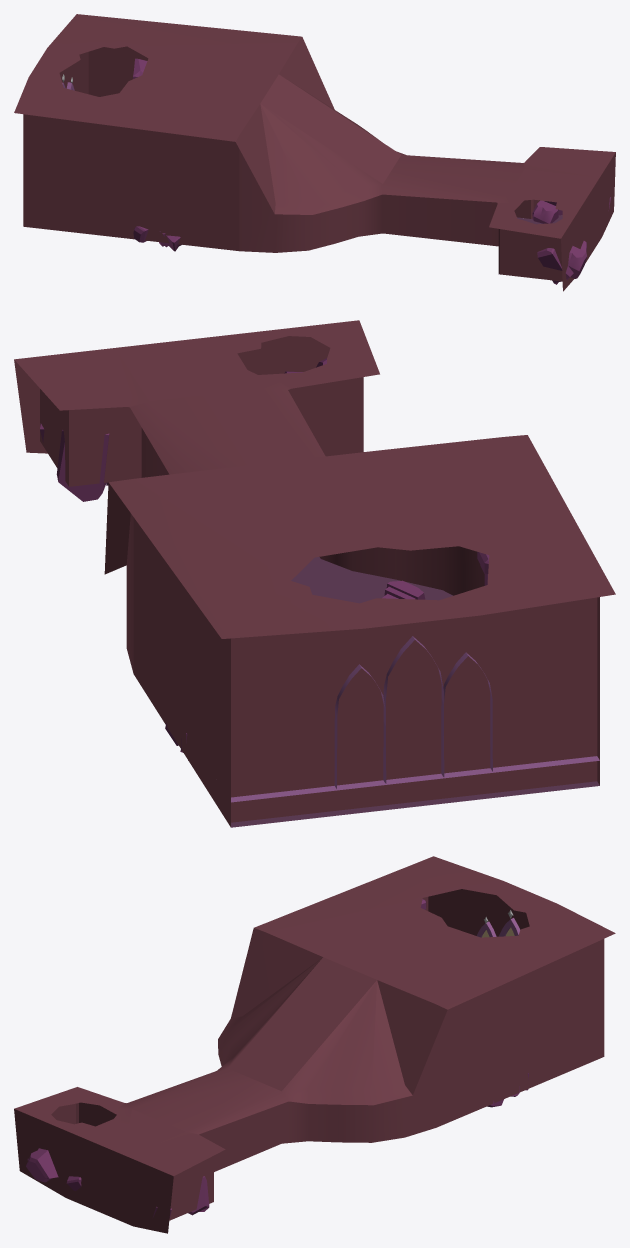
The model's file is env_hub_ruins.fbx.
3 views of the same model, one above another, from view 1: azimuth 30°, elevation 25°; view 2: azimuth 150°, elevation 25°; view 3: azimuth 270°, elevation 25° (orthographic). The views are drawn at different scales.
Visible parts, largest first — view 1: SHADOWCASTER_ceiling, wall_mainRoom, wall_hallway, SHADOWCASTER_walls, wall_knights, debris_11, debris_3, debris_13; view 2: SHADOWCASTER_ceiling, wall_knights, SHADOWCASTER_walls, wall_hallway, wall_mainRoom, floor, platform, portal_frame, debris_10; view 3: SHADOWCASTER_ceiling, wall_mainRoom, wall_hallway, SHADOWCASTER_walls, wall_knights, debris_13.
Boxes of the visible parts, x1,y1,x2,y2 form: SHADOWCASTER_ceiling: [14, 14, 615, 291]; wall_mainRoom: [23, 46, 239, 250]; wall_hallway: [239, 149, 562, 281]; SHADOWCASTER_walls: [26, 47, 561, 278]; wall_knights: [60, 52, 88, 94]; debris_11: [532, 200, 558, 223]; debris_3: [537, 248, 573, 284]; debris_13: [568, 246, 586, 278]; SHADOWCASTER_ceiling: [14, 320, 615, 638]; wall_knights: [231, 597, 597, 822]; SHADOWCASTER_walls: [41, 378, 598, 814]; wall_hallway: [40, 377, 484, 673]; wall_mainRoom: [133, 517, 599, 827]; floor: [231, 557, 599, 827]; platform: [231, 756, 599, 802]; portal_frame: [334, 636, 492, 788]; debris_10: [56, 429, 109, 501]; SHADOWCASTER_ceiling: [14, 856, 615, 1233]; wall_mainRoom: [422, 897, 604, 1127]; wall_hallway: [51, 1039, 436, 1220]; SHADOWCASTER_walls: [77, 889, 604, 1219]; wall_knights: [428, 889, 529, 936]; debris_13: [26, 1148, 58, 1182].
Bounding box in the file's own units: 3351 × 868 × 3423.
